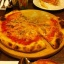pizza: (1, 12, 63, 47)
